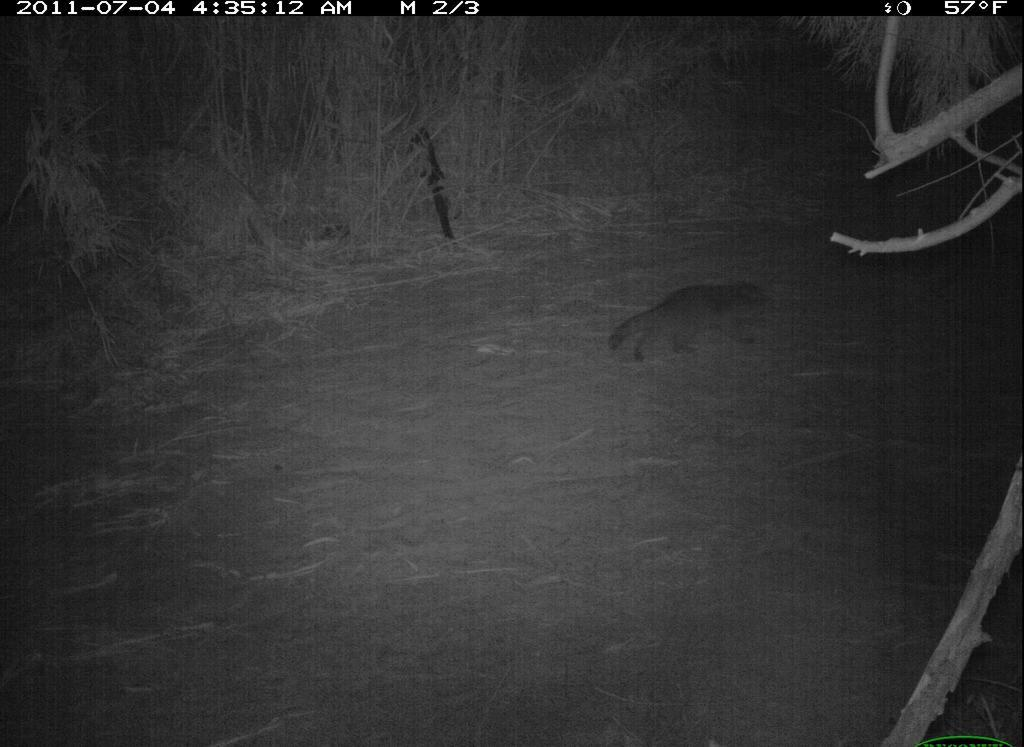raccoon: (598, 269, 786, 376)
